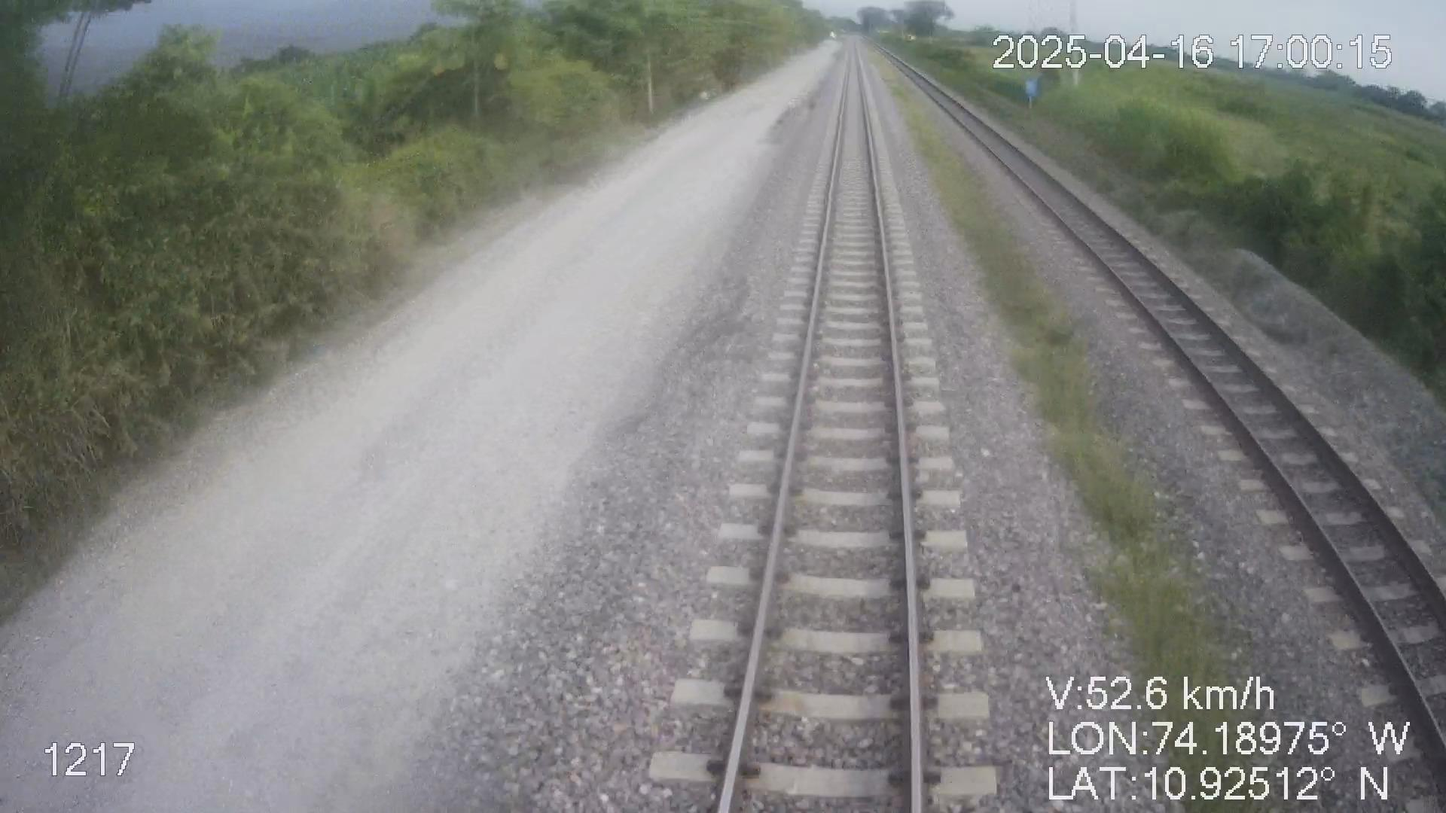Pasto: (0, 0, 829, 572), (895, 23, 1445, 400)
